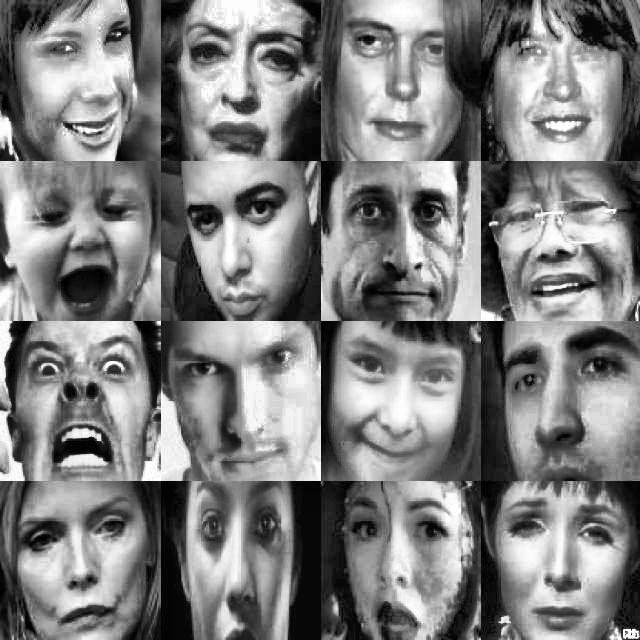angry: (168, 329, 310, 475), (176, 7, 312, 156), (18, 327, 141, 476), (19, 488, 143, 632)
fear: (337, 487, 457, 640)
happy: (342, 326, 462, 470), (32, 9, 143, 152), (503, 16, 617, 153)
neutral: (182, 169, 300, 313), (343, 172, 454, 316)
sad: (498, 328, 634, 472), (489, 175, 626, 313), (498, 491, 620, 640), (20, 175, 149, 313), (183, 481, 291, 640), (340, 9, 460, 147)
